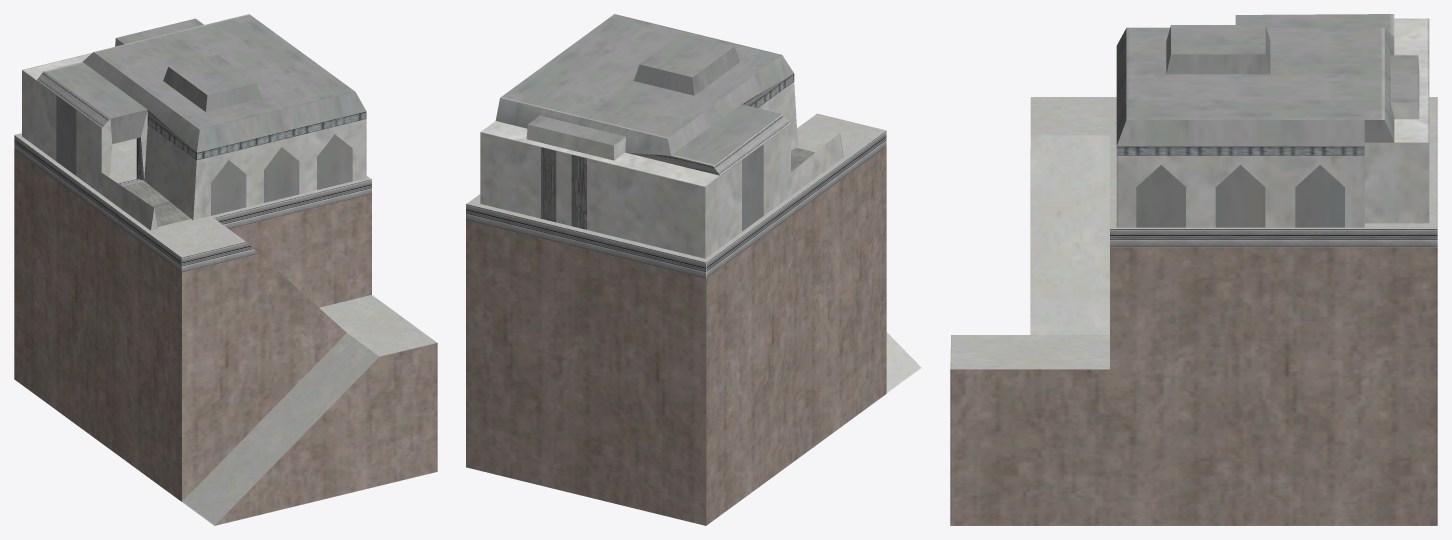
Rendered from ply_corl_house_sm_s01_fp1_r0_exterior_mesh_l2.fbx.
3 views of the same model, side by side, from view 1: azimuth 30°, elevation 25°; view 2: azimuth 150°, elevation 25°; view 3: azimuth 270°, elevation 25° (orthographic). The views are drawn at different scales.
Parts seen in each view (by area): view 1: mesh_node; view 2: mesh_node; view 3: mesh_node.
Part boxes in pixels (x1=…): mesh_node: x1=14, y1=14, x2=437, y2=525; mesh_node: x1=466, y1=14, x2=921, y2=525; mesh_node: x1=950, y1=14, x2=1437, y2=525.
Bounding box in the file's own units: 15.74 × 23.24 × 24.55.
Materials: 2 (2 with a texture image).
